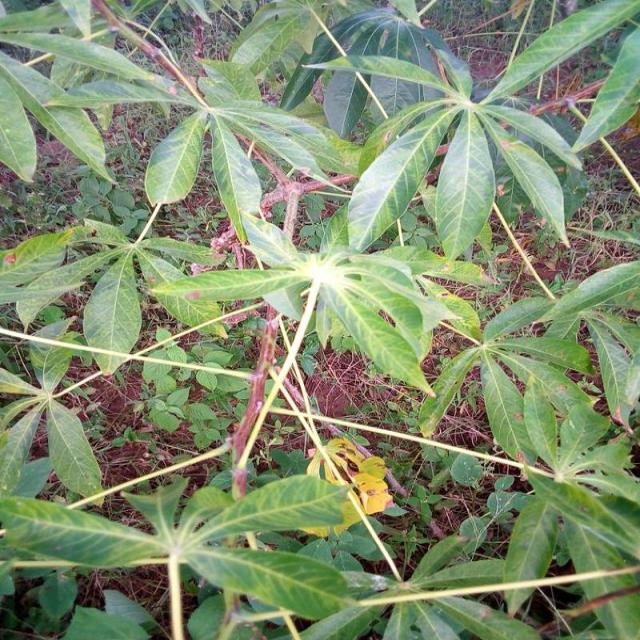cassava leaf: (2, 1, 640, 638), (435, 106, 497, 261)
